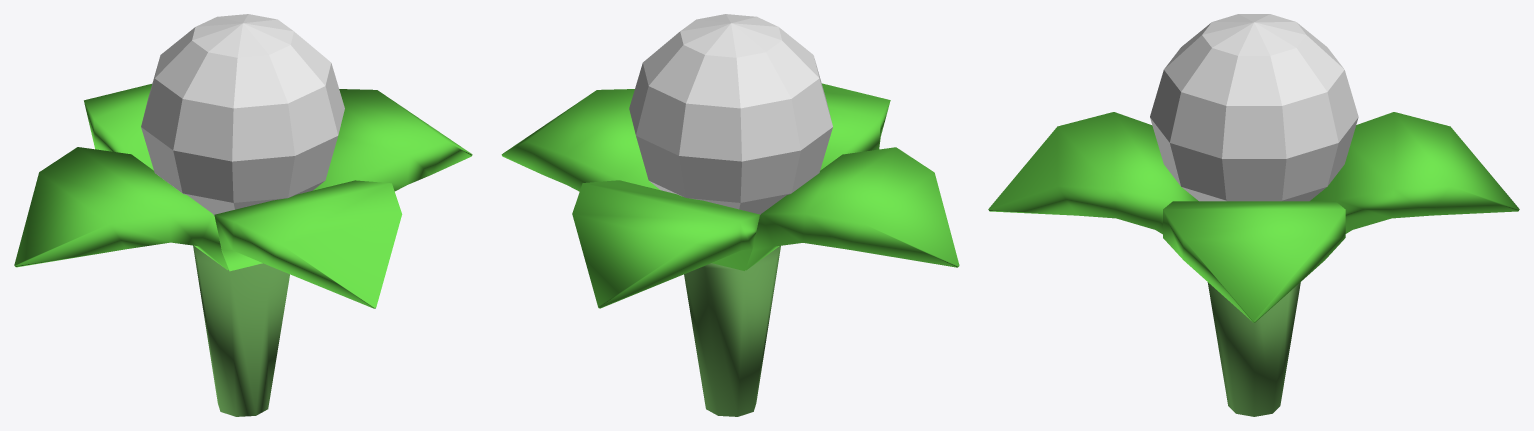
The model's file is item_plusplant.fbx.
The picture shows the model from 3 angles, left to right: view 1: azimuth 30°, elevation 25°; view 2: azimuth 150°, elevation 25°; view 3: azimuth 270°, elevation 25°; orthographic projection.
Parts seen in each view (by area): view 1: Cube.002; view 2: Cube.002; view 3: Cube.002.
Boxes of the visible parts, box(x1,y1,x2,y2) form: Cube.002: box(14, 14, 472, 416); Cube.002: box(501, 14, 959, 416); Cube.002: box(988, 14, 1519, 416).
Bounding box in the file's own units: 152 × 122 × 153.
